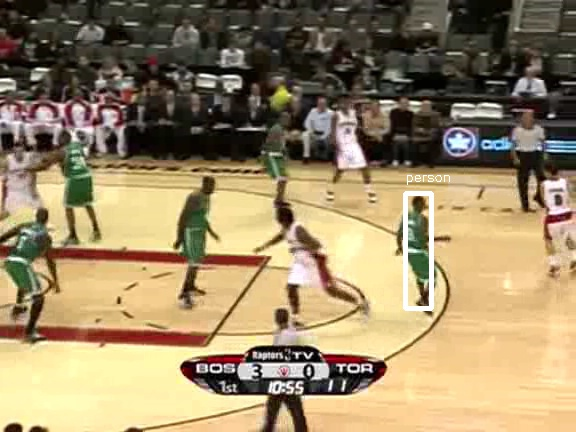person: (400, 210, 434, 291), (399, 210, 433, 291), (401, 210, 435, 291), (400, 209, 434, 290), (400, 211, 434, 292)
target_negative: (124, 70, 354, 275), (227, 13, 324, 346), (376, 225, 469, 423), (50, 172, 280, 231), (332, 394, 423, 412), (548, 129, 549, 335)
